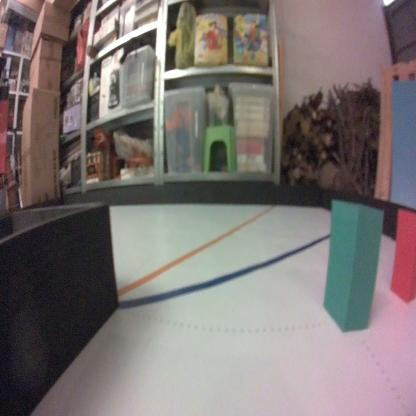green: (321, 197, 384, 337)
red: (388, 206, 416, 306)
